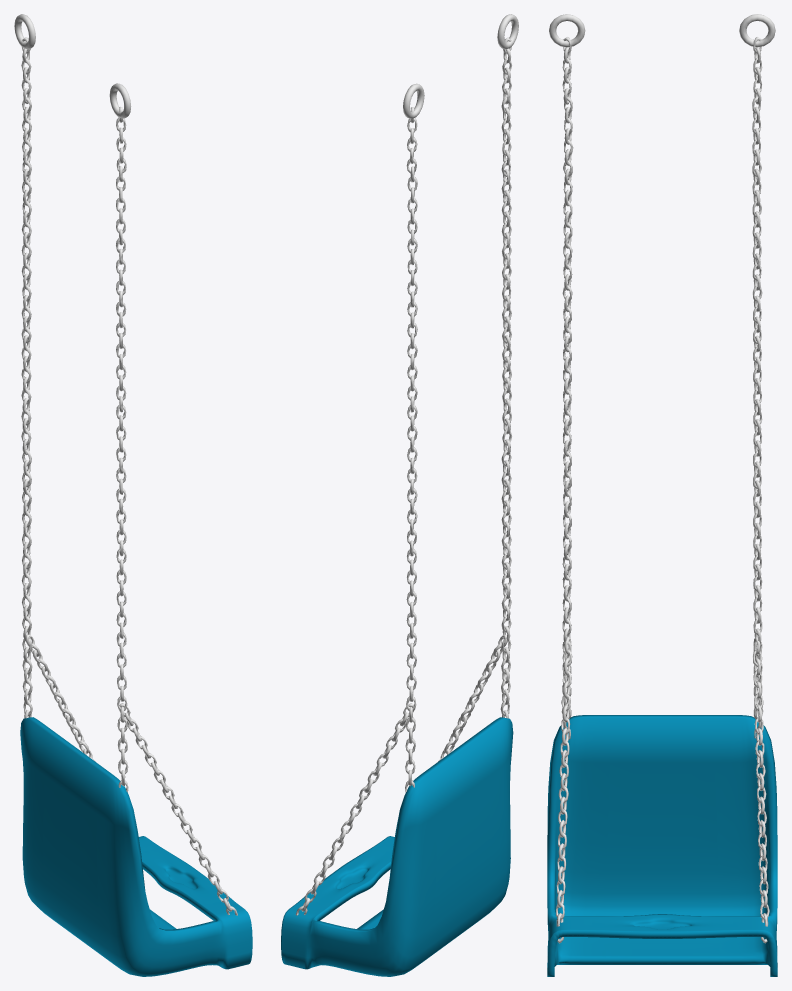
3 renders of one model, left to right at view 1: azimuth 30°, elevation 25°; view 2: azimuth 150°, elevation 25°; view 3: azimuth 270°, elevation 25°, orthographic.
Parts seen in each view (by area): view 1: Plane039,_colorize_, Torus009, Torus; view 2: Plane039,_colorize_, Torus009, Torus; view 3: Plane039,_colorize_, Torus009, Torus.
Boxes of the visible parts, <box> form: Plane039,_colorize_: <box>20,717,252,976</box>; Torus009: <box>21,37,237,915</box>; Torus: <box>14,14,131,118</box>; Plane039,_colorize_: <box>281,717,513,976</box>; Torus009: <box>295,37,511,915</box>; Torus: <box>403,14,518,118</box>; Plane039,_colorize_: <box>547,715,777,976</box>; Torus009: <box>556,37,769,943</box>; Torus: <box>549,14,775,47</box>.
Bounding box in the file's own units: 0.273 × 1.8 × 0.4157.
